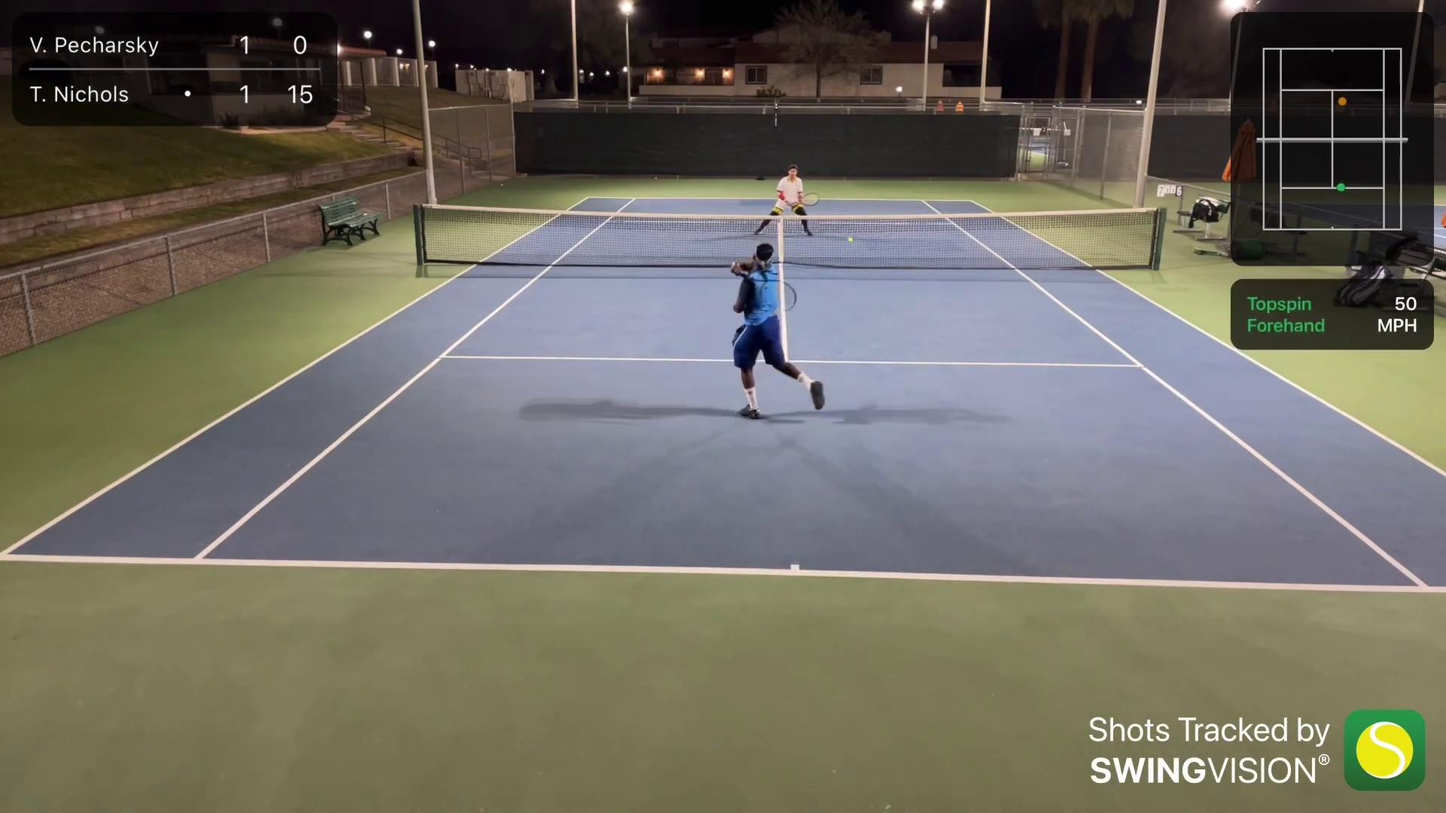ball: (846, 234, 854, 243)
